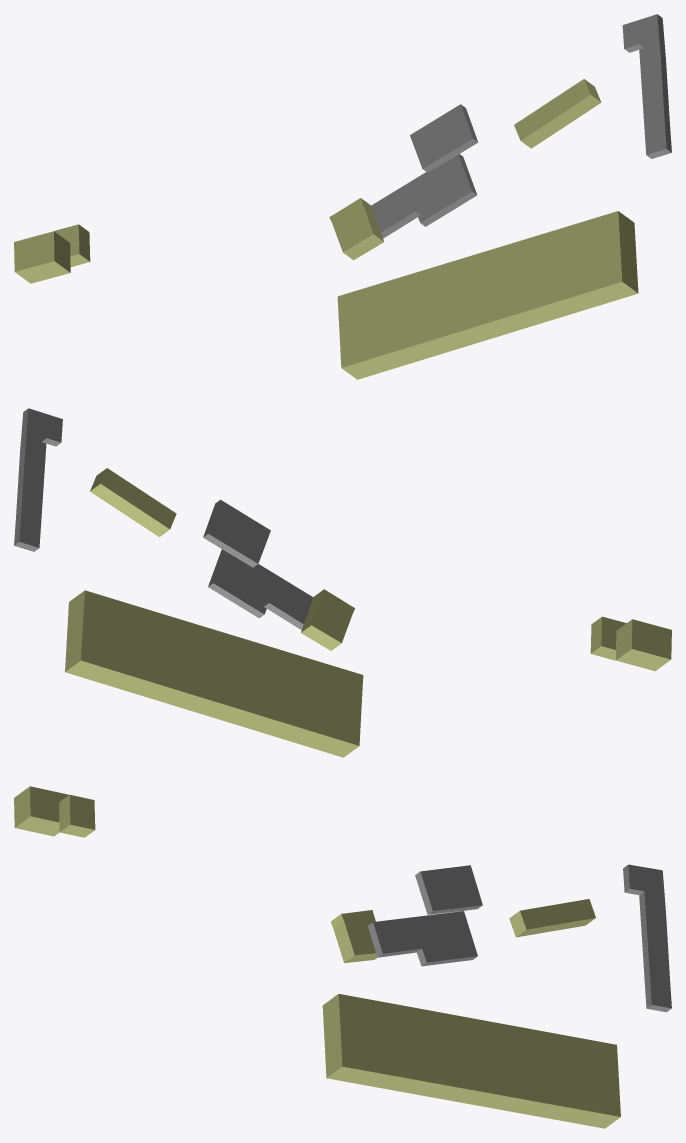
The picture shows the model from 3 angles, top to bottom: view 1: azimuth 30°, elevation 25°; view 2: azimuth 150°, elevation 25°; view 3: azimuth 330°, elevation 25°; orthographic projection.
Visible parts, largest first — view 1: 0_1_2_0_0_2_3; view 2: 0_1_2_0_0_2_3; view 3: 0_1_2_0_0_2_3.
Boxes of the visible parts, x1,y1,x2,y2 form: 0_1_2_0_0_2_3: [14, 14, 671, 379]; 0_1_2_0_0_2_3: [14, 408, 671, 757]; 0_1_2_0_0_2_3: [14, 786, 671, 1128].
Bounding box in the file's own units: 209 × 84.05 × 12.49.
